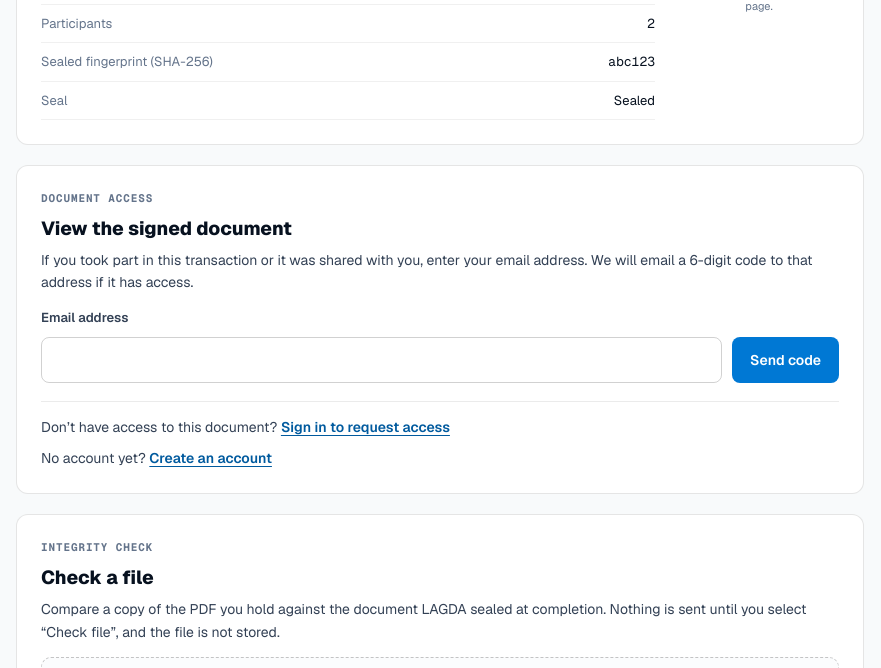
it: /verify/:id access flow › a correct code unlocks the document, participants in routing order, and details
This screenshot has width=881, height=668.
(page scrolled)
Type "maria@example.com" into the field labelled "Email address" at (382, 360), box 41,337 -> 722,383
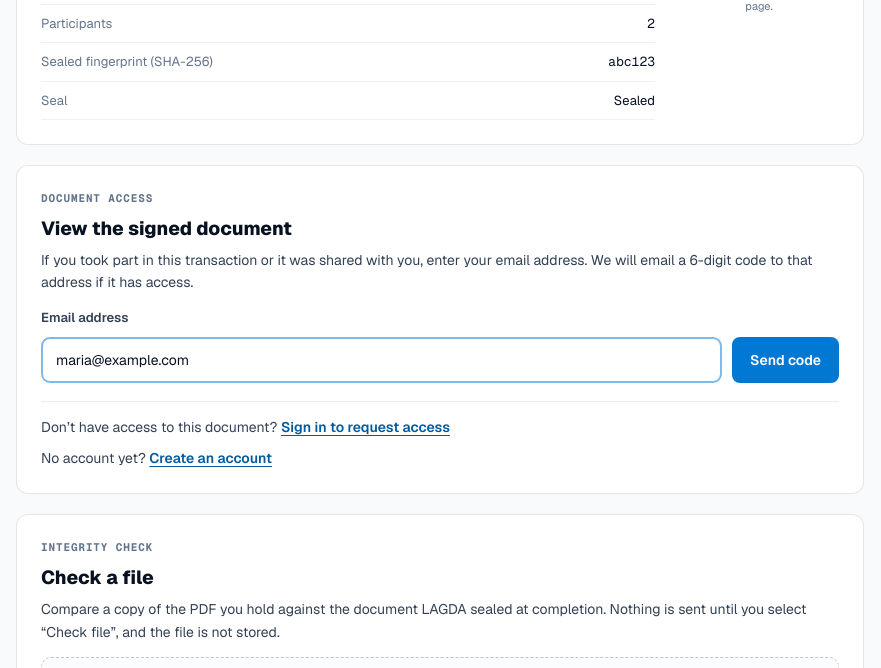
Click the button "Send code" at (786, 360), box 732,337 -> 839,383
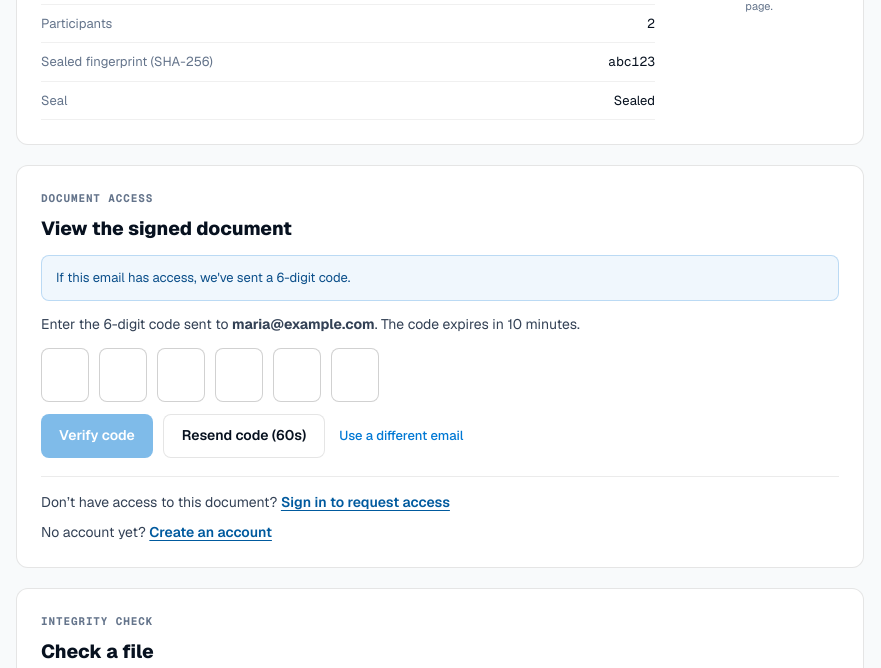
Result: the text "If this email has access, we've sent a 6-digit code." is shown at 41,255 -> 839,301
Click the field named "Digit 1 of 6" at (65, 375), box 41,348 -> 89,402
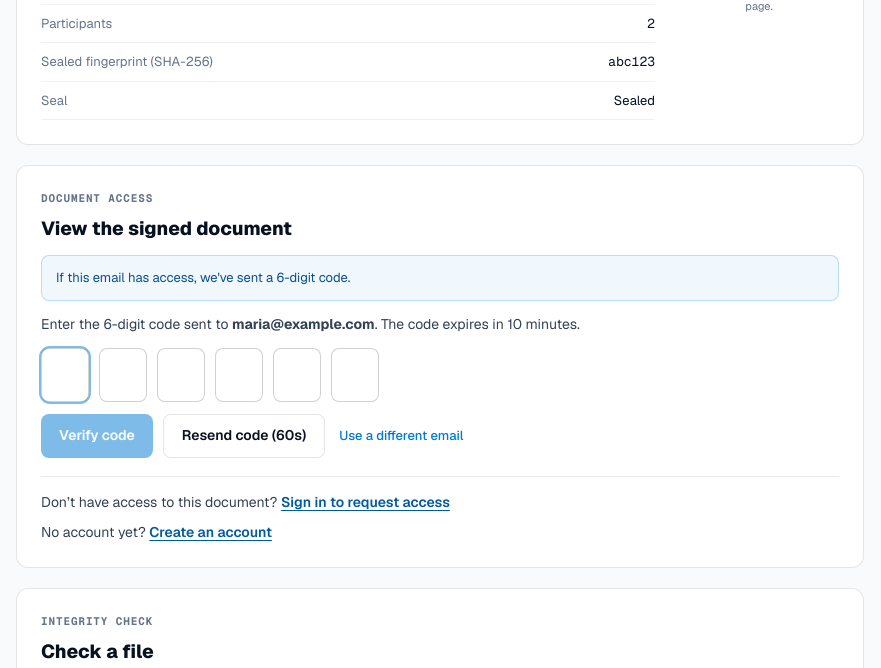
Type keys "123456"
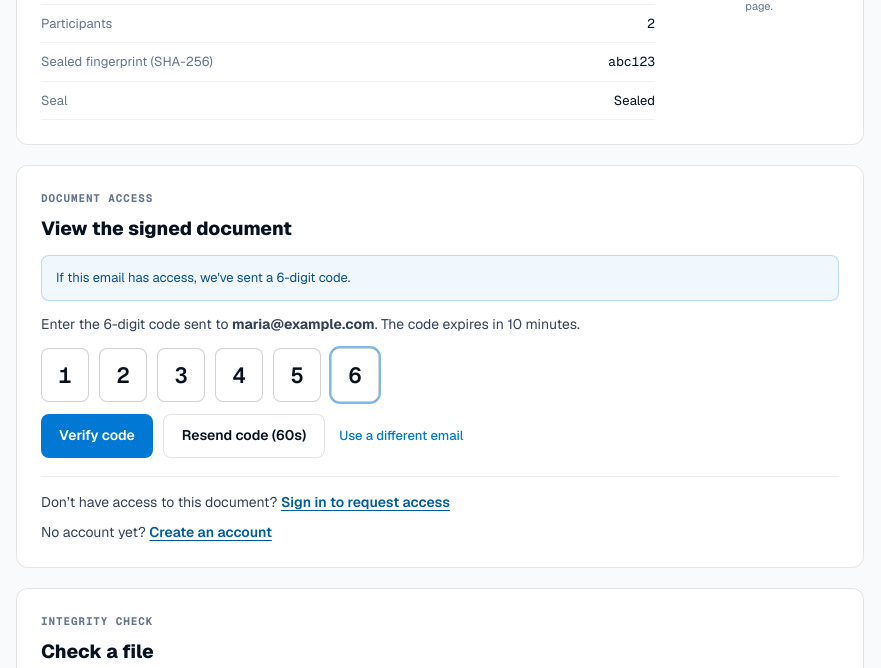
Click the button "Verify code" at (97, 436), box 41,414 -> 153,458
(page scrolled)
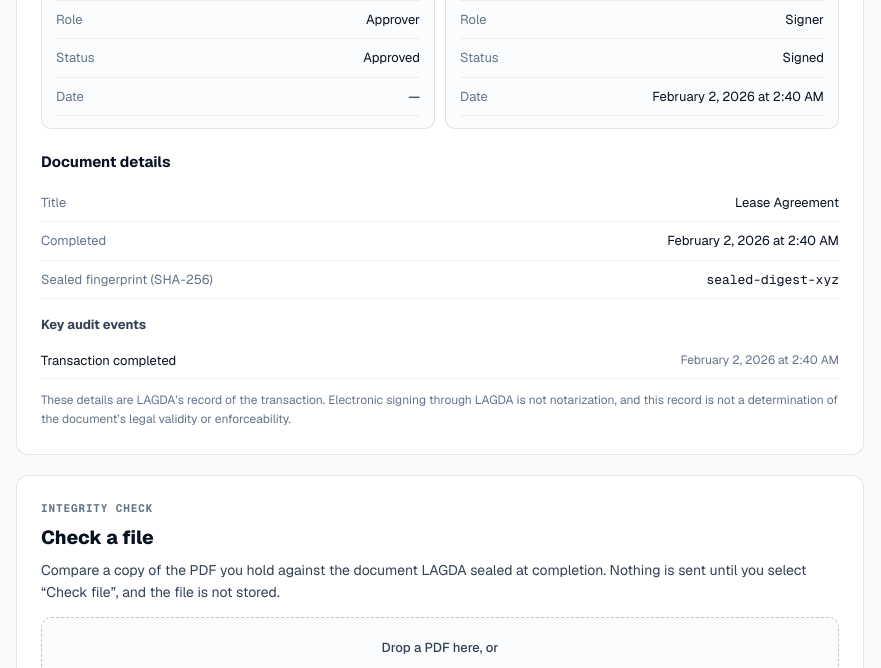
Result: the text "sealed-digest-xyz" is shown at 706,271 -> 839,288
Result: the text "Transaction completed" is shown at 41,351 -> 176,370
